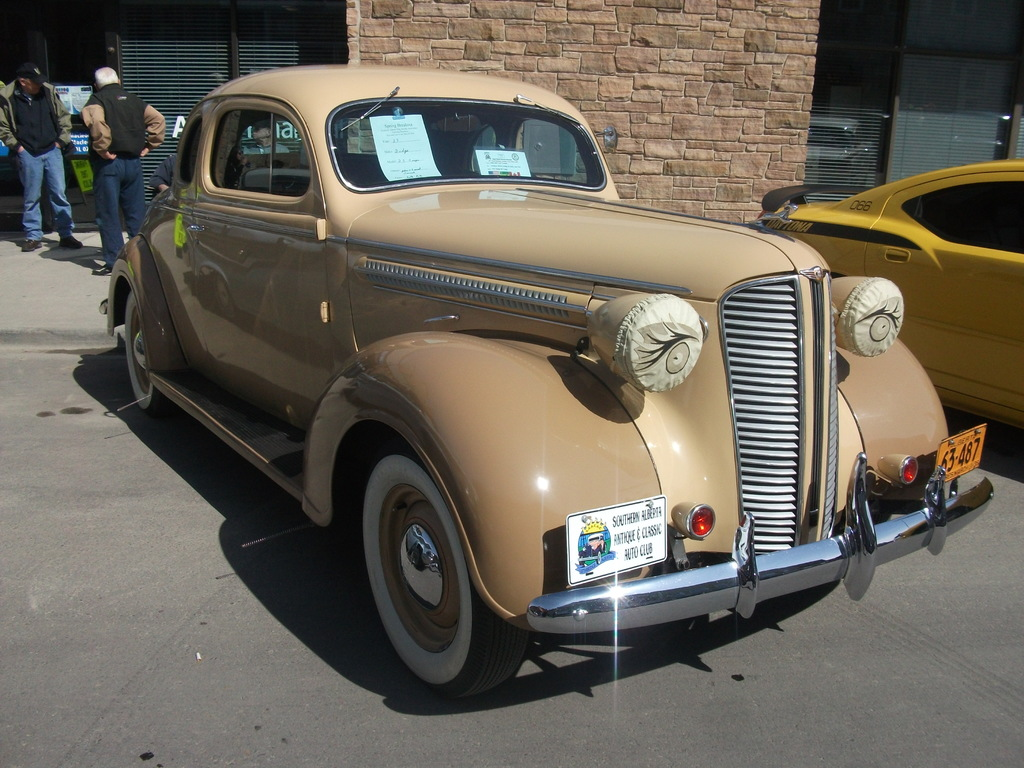Car: (97, 66, 995, 704), (755, 158, 1023, 431)
